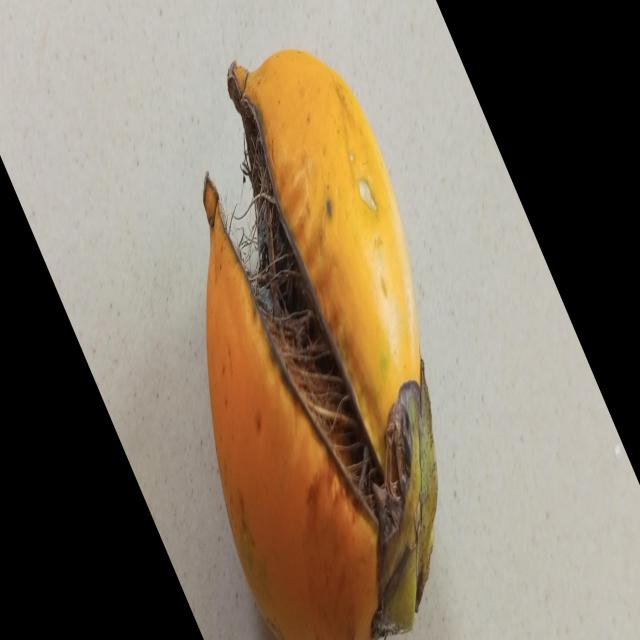damaged: (203, 49, 438, 640)
